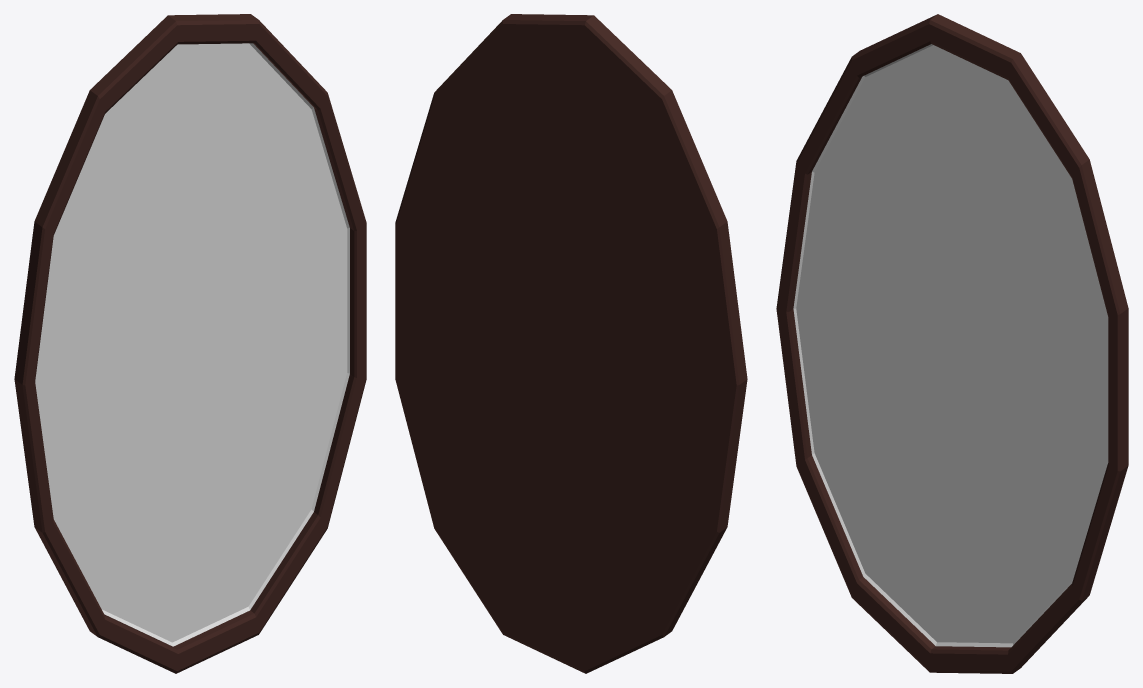
File: Bedroom - Mirror(1).fbx
The picture shows the model from 3 angles, left to right: view 1: azimuth 30°, elevation 25°; view 2: azimuth 150°, elevation 25°; view 3: azimuth 330°, elevation 25°; orthographic projection.
Parts seen in each view (by area): view 1: Cylinder.036; view 2: Cylinder.036; view 3: Cylinder.036.
Boxes of the visible parts, x1,y1,x2,y2 form: Cylinder.036: (14, 14, 366, 673); Cylinder.036: (395, 14, 747, 673); Cylinder.036: (776, 14, 1128, 673).
Size of the model in its own units: 197 by 357 by 10.
